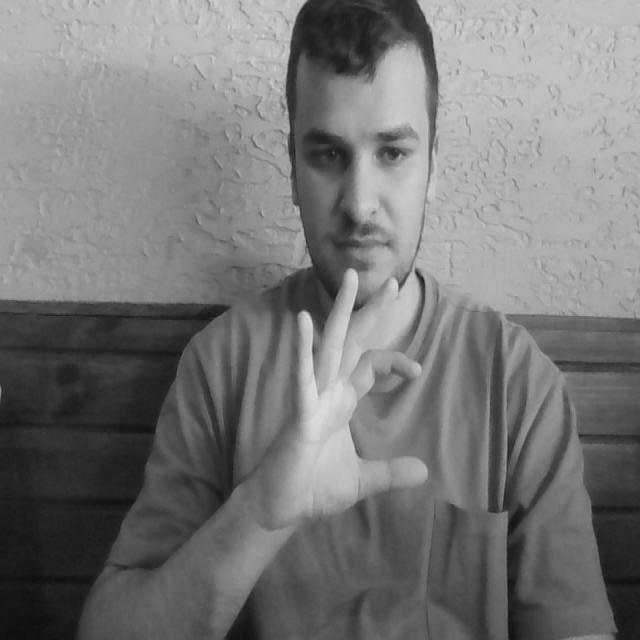Tuvalet: (249, 257, 451, 541)
